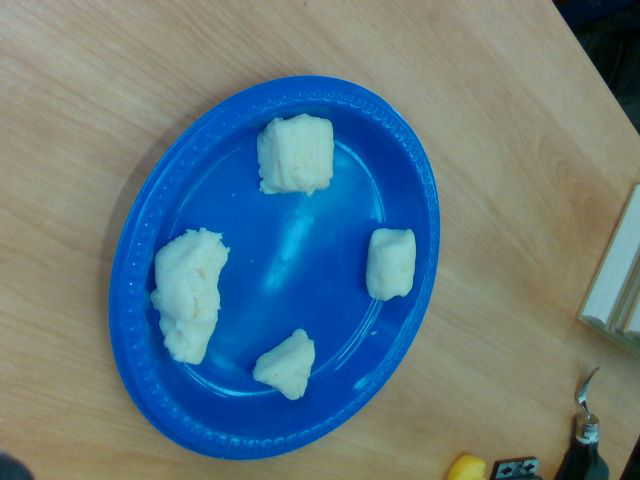mashed_potato: (157, 229, 228, 364), (257, 116, 331, 193), (253, 330, 314, 399), (366, 229, 416, 299)
